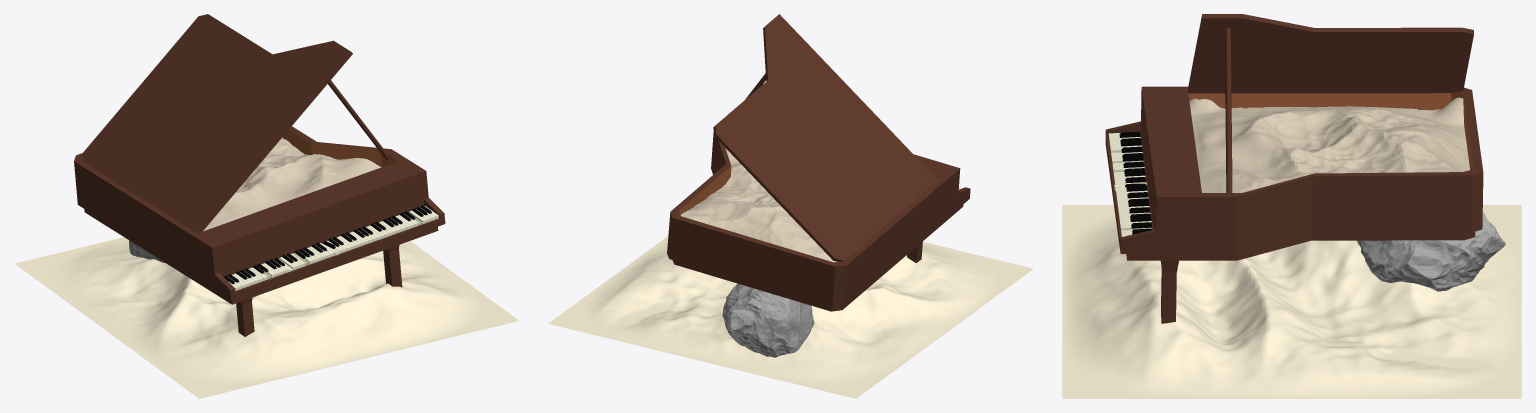
The model's file is BrokenPiano.fbx.
The picture shows the model from 3 angles, left to right: view 1: azimuth 30°, elevation 25°; view 2: azimuth 150°, elevation 25°; view 3: azimuth 270°, elevation 25°; orthographic projection. The views are drawn at different scales.
Visible parts, largest first — view 1: Cube.003, Landscape.004, Sand; view 2: Cube.003, Landscape.004, Sand, Rock; view 3: Landscape.004, Cube.003, Sand, Rock.
Boxes of the visible parts, bbox=[...] form: Cube.003: bbox=[74, 14, 445, 336]; Landscape.004: bbox=[15, 237, 518, 398]; Sand: bbox=[203, 137, 381, 231]; Cube.003: bbox=[667, 14, 970, 311]; Landscape.004: bbox=[548, 236, 1033, 398]; Sand: bbox=[680, 148, 837, 262]; Rock: bbox=[722, 283, 814, 357]; Landscape.004: bbox=[1062, 205, 1521, 398]; Cube.003: bbox=[1105, 14, 1483, 323]; Sand: bbox=[1189, 97, 1469, 192]; Rock: bbox=[1357, 211, 1505, 291].
Bounding box in the file's own units: 289 × 226 × 289.
